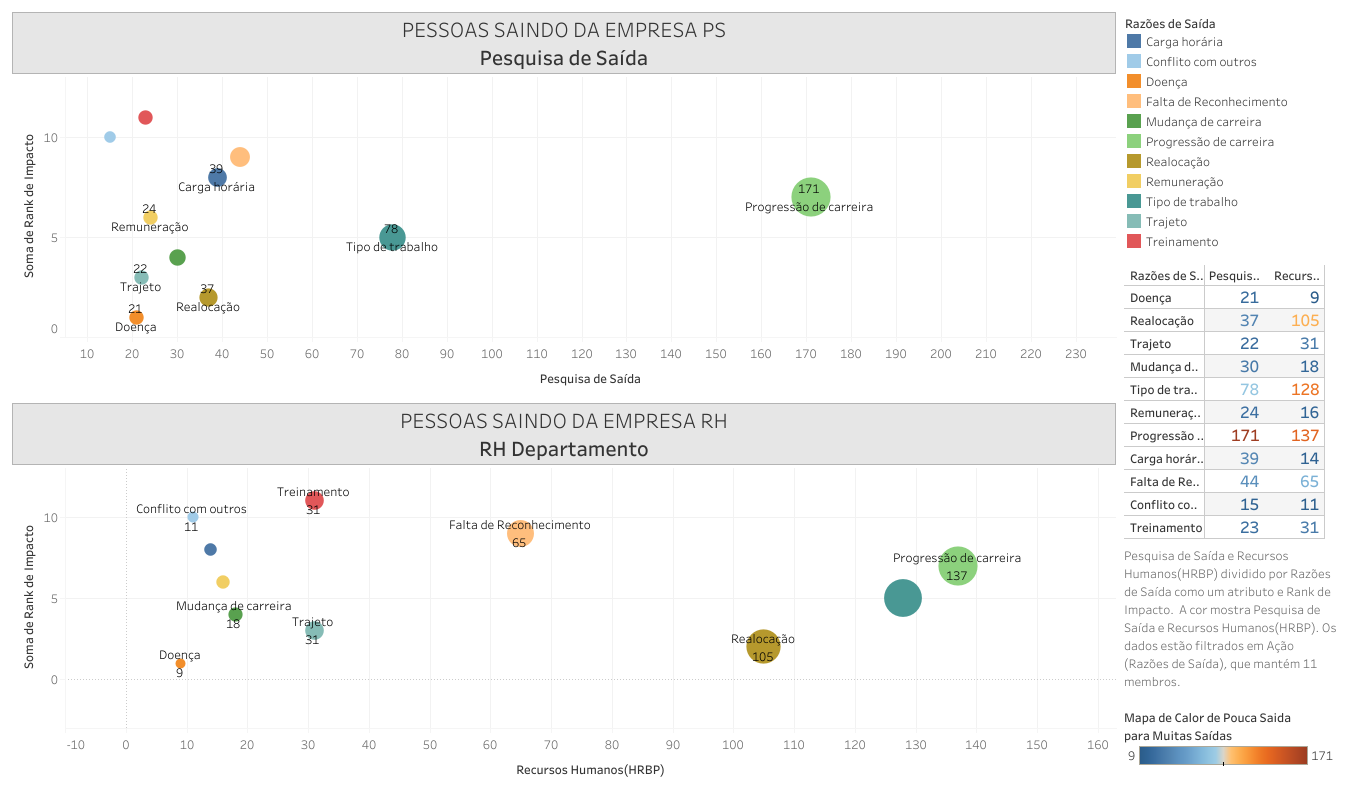

The page's visual inventory and layout, read from the dashboard file:
{"tool":"tableau","page":{"name":"Painel 2","canvas":[1000,1000],"units":"permille","ordinal":0},"visuals":[{"type":"worksheet","title":"PESSOAS SAINDO DA EMPRESA PS","mark":"Automatic","rows":["Rank de Impacto"],"cols":["Pesquisa de Saída"],"box":[5.9,10,850.4,490]},{"type":"legend","title":"PESSOAS SAINDO DA EMPRESA PS","param":"[federated.13hti5l0au8g3r18qakzt0soij25].[none:Razões de Saída:nk]","box":[856.3,10,137.8,317.4]},{"type":"worksheet","title":"Gráfico 2","mark":"Automatic","box":[856.3,327.5,137.8,491.8]},{"type":"worksheet","title":"PESSOAS SAINDO DA EMPRESA RH","mark":"Automatic","rows":["Rank de Impacto"],"cols":["Recursos Humanos(HRBP)"],"box":[5.9,500,850.4,490]},{"type":"legend","title":"Gráfico 2","param":"[federated.13hti5l0au8g3r18qakzt0soij25].[:Measure Names]","box":[856.3,819.3,137.8,170.6]}]}

Visuals, with their boxes on the dashboard's canvas, which has no fixed pixel size, in thousandths of its width and height (x1, y1, x2, y2). These are canvas units, not pixel positions in the 1349x796 screenshot, which may show the page scaled, cropped or inside an application window:
"PESSOAS SAINDO DA EMPRESA PS" worksheet: <region>6, 10, 856, 500</region>
"PESSOAS SAINDO DA EMPRESA PS" legend: <region>856, 10, 994, 327</region>
"Gráfico 2" worksheet: <region>856, 328, 994, 819</region>
"PESSOAS SAINDO DA EMPRESA RH" worksheet: <region>6, 500, 856, 990</region>
"Gráfico 2" legend: <region>856, 819, 994, 990</region>
